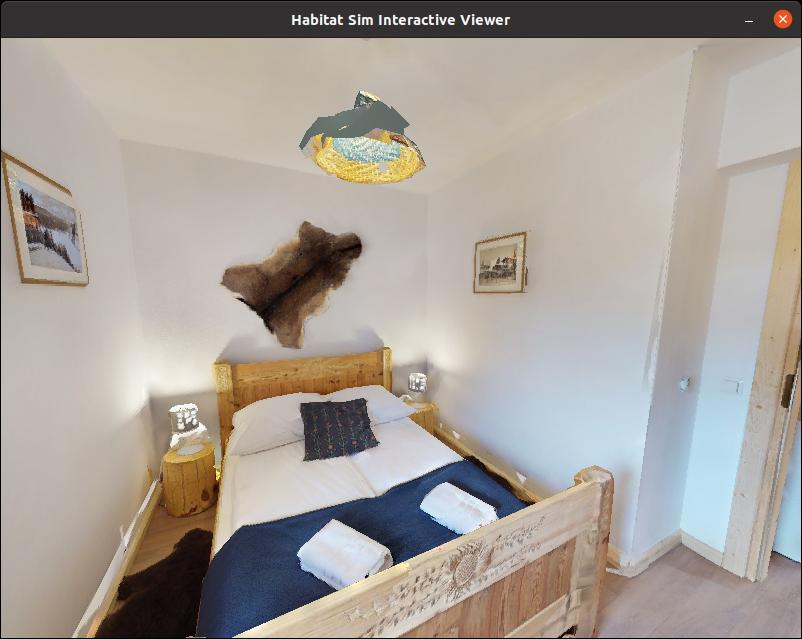bed: (151, 325, 648, 639)
